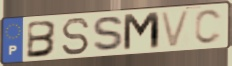B: (25, 19, 59, 60)
C: (193, 8, 224, 46)
M: (122, 10, 162, 54)
S: (91, 15, 127, 54), (60, 17, 92, 57)
V: (159, 9, 193, 50)
